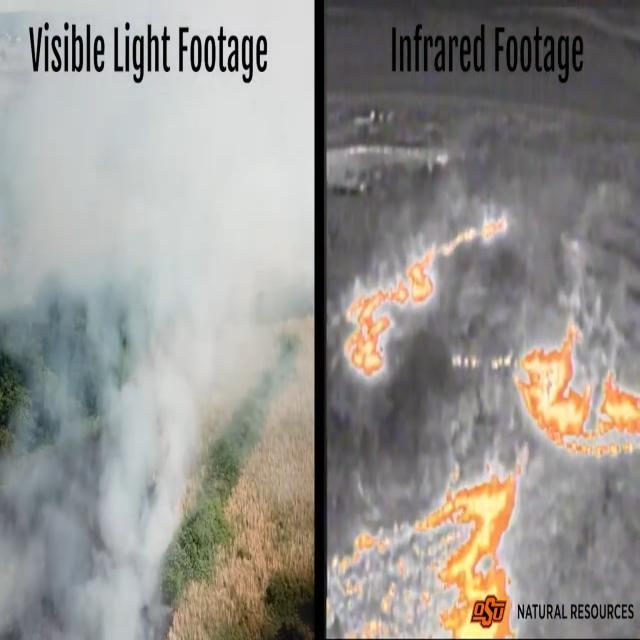fire: (327, 470, 521, 640), (513, 324, 640, 464), (410, 216, 513, 305), (345, 276, 410, 384)
